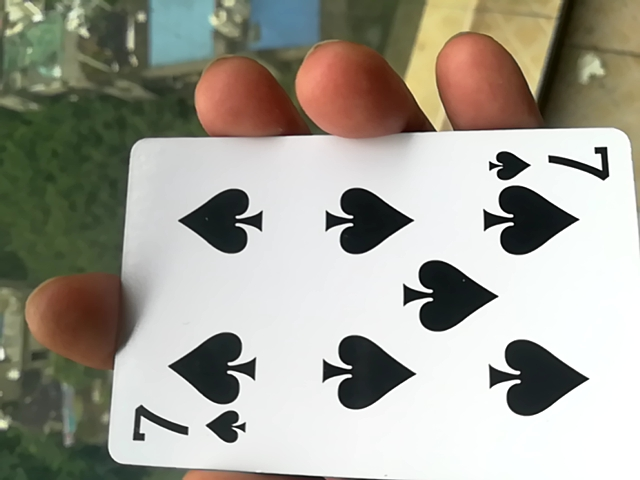ht 7: (95, 122, 633, 480)
